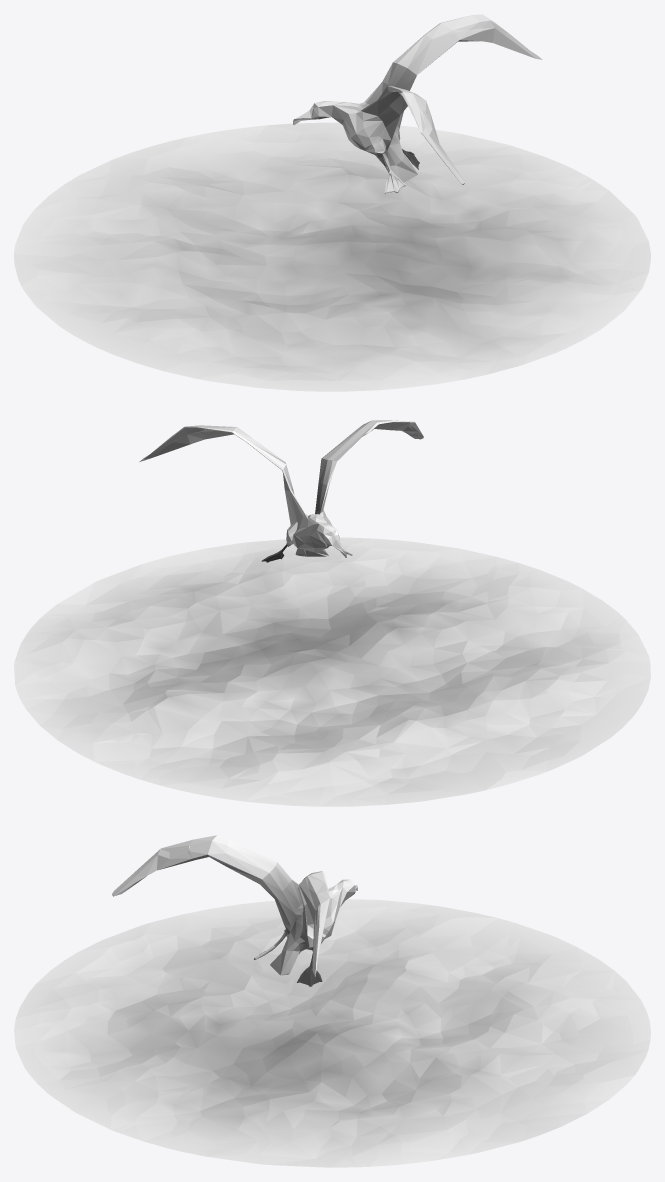
File: albatros.dae
3 renders of one model, top to bottom at view 1: azimuth 30°, elevation 25°; view 2: azimuth 150°, elevation 25°; view 3: azimuth 270°, elevation 25°, orthographic.
Parts seen in each view (by area): view 1: mer, albatros; view 2: mer, albatros; view 3: mer, albatros.
Part boxes in pixels (bbox=[...]): mer: bbox=[14, 122, 650, 391]; albatros: bbox=[293, 14, 542, 193]; mer: bbox=[14, 537, 650, 806]; albatros: bbox=[139, 420, 423, 562]; mer: bbox=[14, 899, 650, 1167]; albatros: bbox=[112, 835, 357, 986].
Bounding box in the file's own units: 660 × 252 × 660.
1 material, 1 textured.
